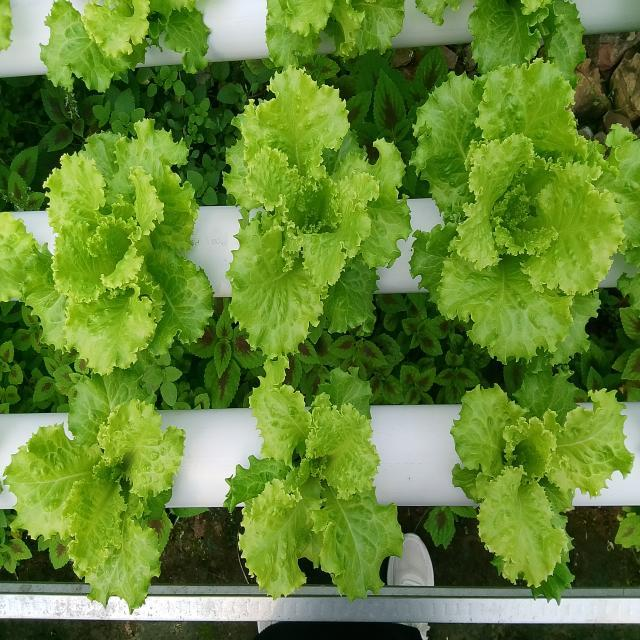Baby: (411, 59, 640, 364), (0, 120, 214, 375), (224, 68, 410, 359), (4, 365, 185, 613), (226, 357, 403, 601), (451, 370, 634, 600)
